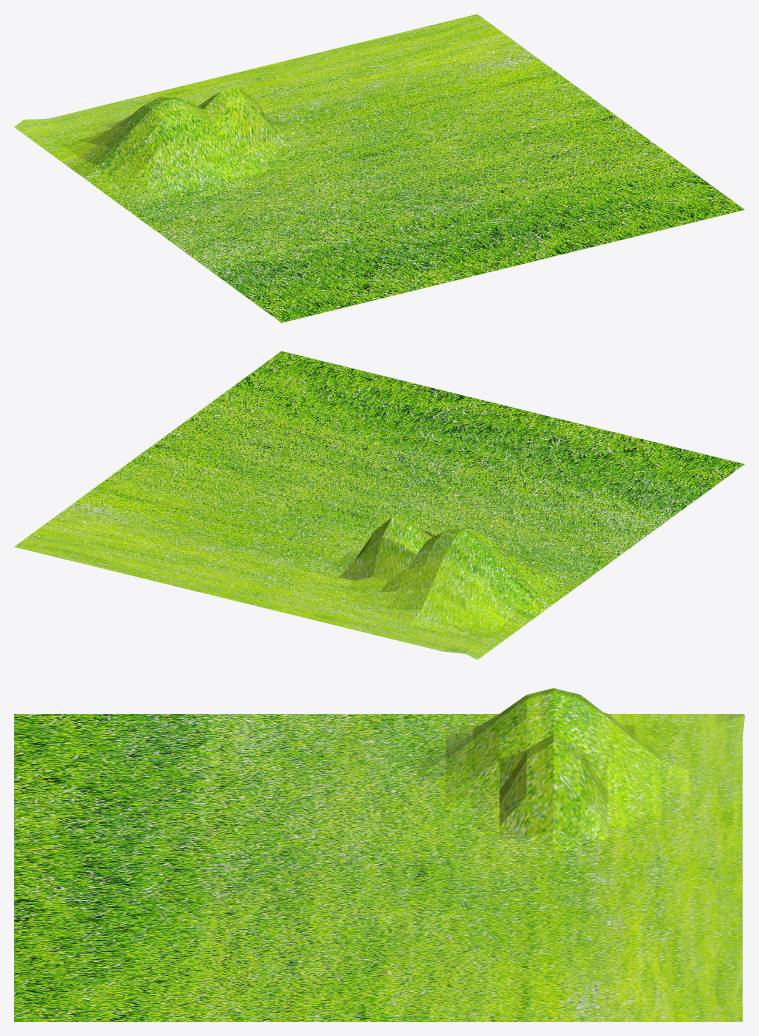
Rendered from terrain.fbx.
3 views of the same model, one above another, from view 1: azimuth 30°, elevation 25°; view 2: azimuth 150°, elevation 25°; view 3: azimuth 270°, elevation 25° (orthographic). The views are drawn at different scales.
Visible parts, largest first — view 1: 平面; view 2: 平面; view 3: 平面.
Part boxes in pixels (box(x1,y1,x2,y2)): 平面: box(14, 14, 744, 322); 平面: box(14, 351, 744, 659); 平面: box(14, 688, 744, 1021).
Size of the model in its own units: 200 by 23.99 by 201.
Materials: 1 (1 with a texture image).
